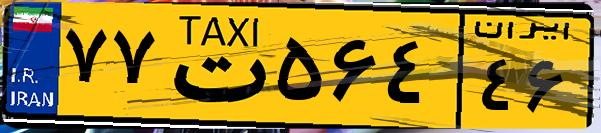4: (385, 28, 445, 110), (475, 38, 525, 113)
5: (270, 28, 330, 110)
6: (330, 28, 385, 110), (525, 38, 570, 115)
7: (57, 26, 110, 100), (110, 28, 158, 98)
ت: (158, 12, 270, 120)
